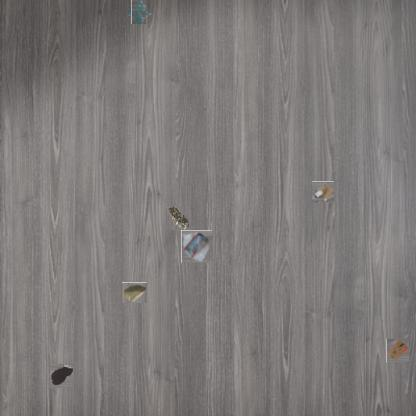dirty: (180, 231, 212, 262), (166, 206, 190, 230), (386, 339, 410, 362), (121, 282, 147, 303), (313, 181, 334, 203)
liquid: (50, 364, 74, 388), (129, 1, 149, 22)
